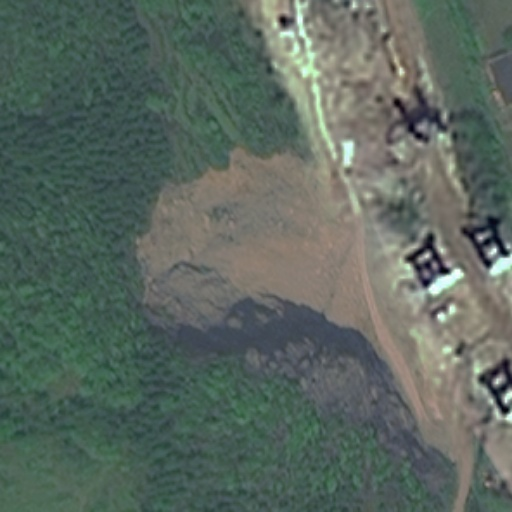landslide: (136, 155, 372, 340)
